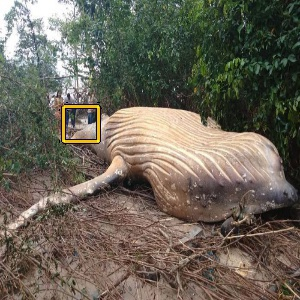square: (62, 104, 101, 145)
